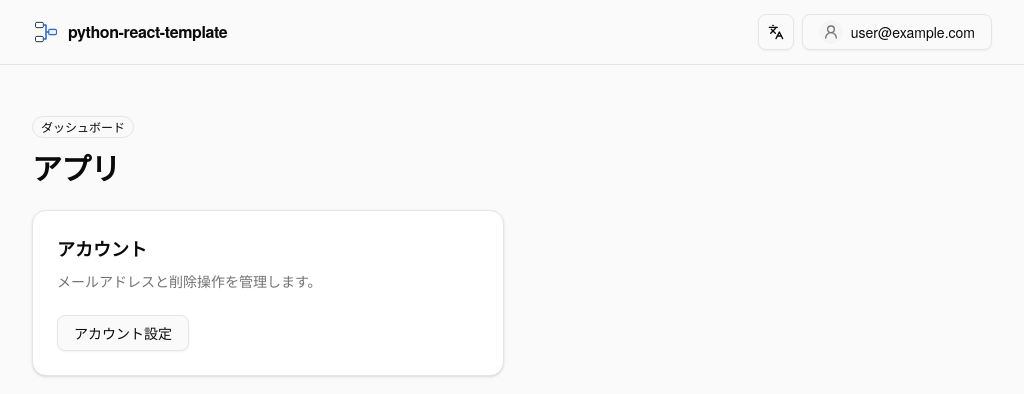
Header › 言語更新失敗時は閉じたメニューの外側に alert を表示する
The width and height of the screenshot is (1024, 394).
Expected: the text "user@example.com" is shown, [851,22,975,42]
Press the mouse on the button named "表示言語を変更" at (776,32), box [758,14,794,50]
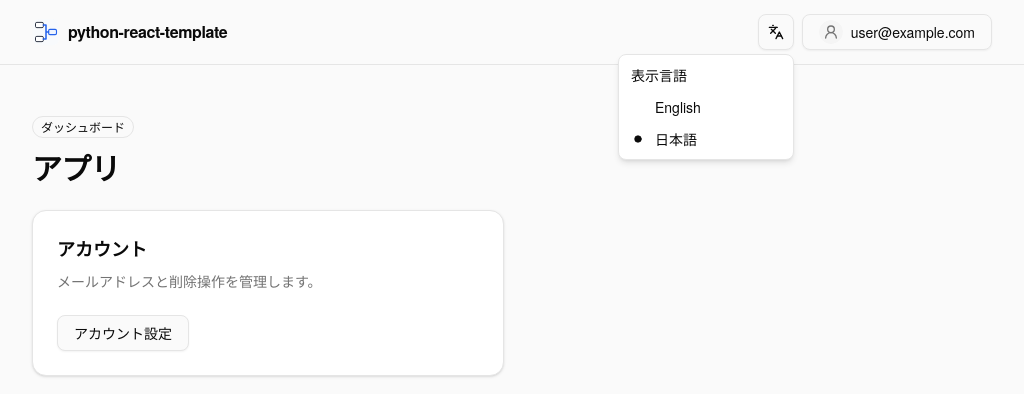
Click the menu item "English". click: (678,107)
box: [655,97,701,117]
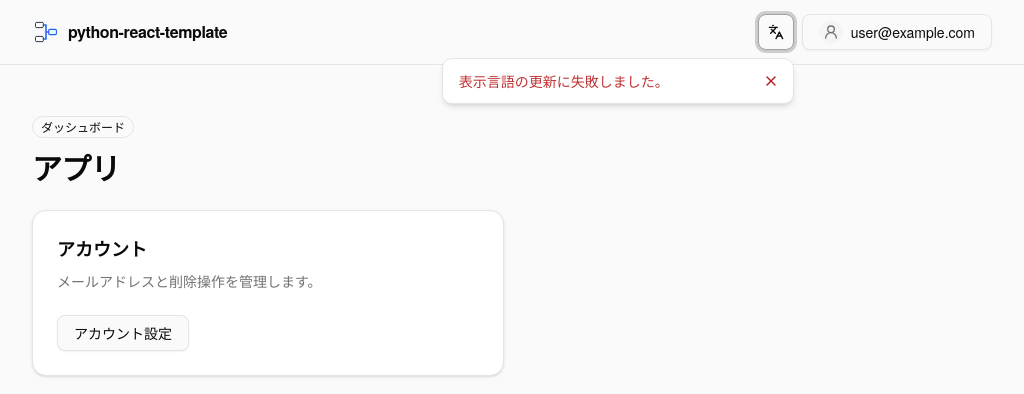
Now the menu is gone
Now the message reads "表示言語の更新に失敗しました。", box [459,71,669,91]
